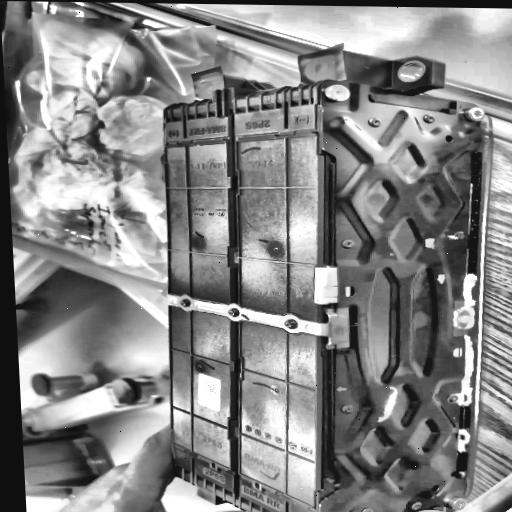battery_module: (148, 52, 512, 512)
